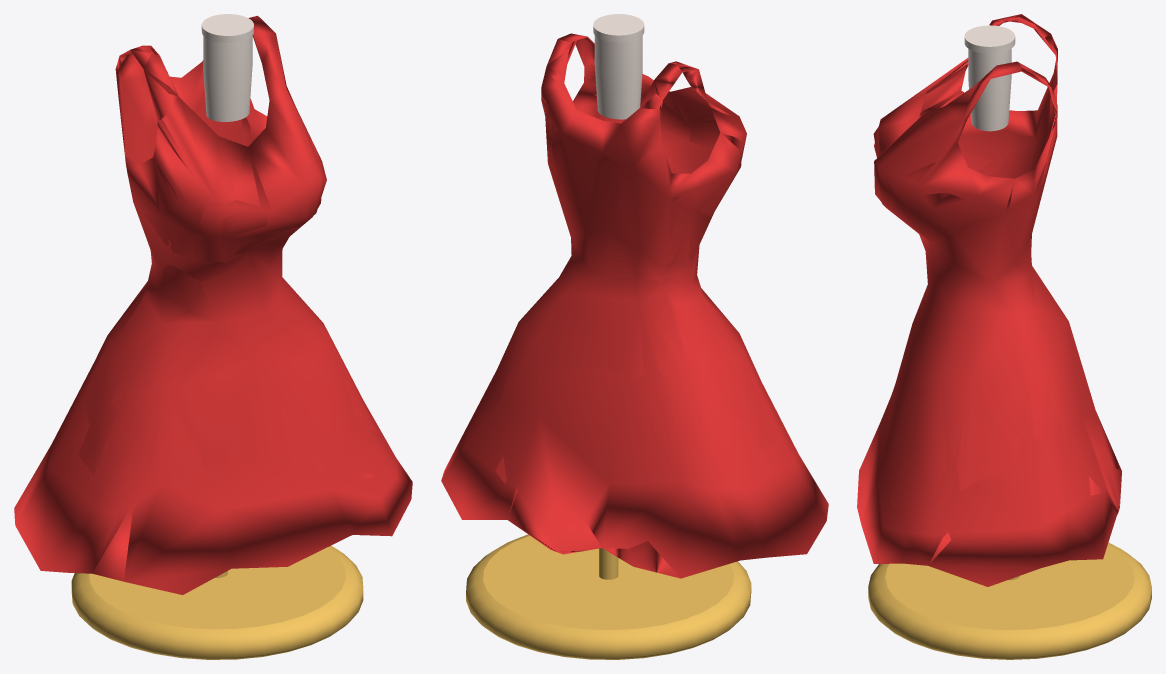
File: rain.dress.scarlet-bell.lod1.glb
3 renders of one model, left to right at view 1: azimuth 30°, elevation 25°; view 2: azimuth 150°, elevation 25°; view 3: azimuth 270°, elevation 25°, orthographic. The views are drawn at different scales.
Visible parts, largest first — view 1: Tailored.Dress.scarlet-bell.Fabric, stand_base, stand_torso, stand_neck_cap; view 2: Tailored.Dress.scarlet-bell.Fabric, stand_base, stand_torso, stand_neck_cap; view 3: Tailored.Dress.scarlet-bell.Fabric, stand_base, stand_torso, stand_neck_cap.
Boxes of the visible parts, x1=… form: Tailored.Dress.scarlet-bell.Fabric: x1=14, y1=15, x2=412, y2=594; stand_base: x1=71, y1=546, x2=363, y2=659; stand_torso: x1=203, y1=36, x2=252, y2=121; stand_neck_cap: x1=201, y1=14, x2=253, y2=42; Tailored.Dress.scarlet-bell.Fabric: x1=441, y1=33, x2=828, y2=578; stand_base: x1=466, y1=534, x2=751, y2=659; stand_torso: x1=594, y1=35, x2=642, y2=119; stand_neck_cap: x1=593, y1=14, x2=644, y2=42; Tailored.Dress.scarlet-bell.Fabric: x1=857, y1=14, x2=1121, y2=586; stand_base: x1=868, y1=542, x2=1151, y2=659; stand_torso: x1=968, y1=48, x2=1011, y2=131; stand_neck_cap: x1=964, y1=25, x2=1015, y2=53.
Bounding box in the file's own units: 0.4653 × 0.75 × 0.3519.
